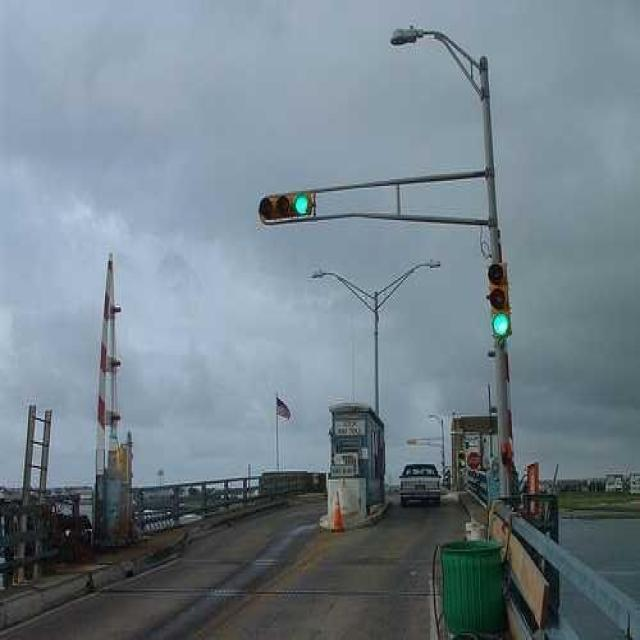Traffic Light -Green-: (484, 261, 513, 341), (256, 191, 319, 225)
